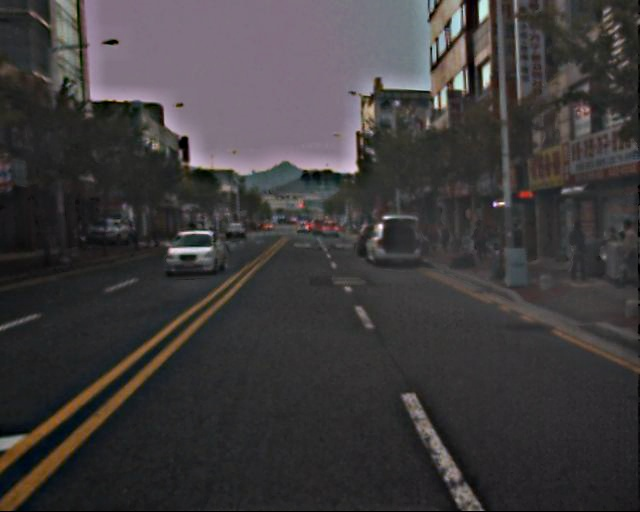person: (610, 218, 640, 283), (562, 221, 591, 285), (423, 219, 451, 252), (474, 219, 493, 265)
